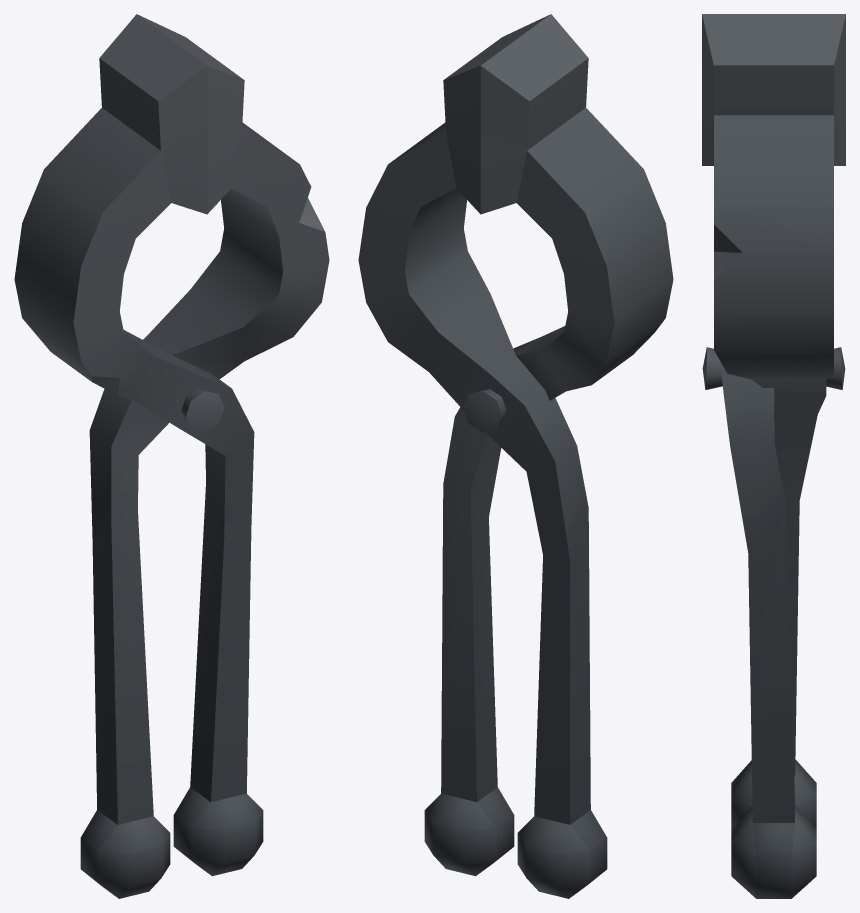
The model's file is tongs.gltf.
The picture shows the model from 3 angles, left to right: view 1: azimuth 30°, elevation 25°; view 2: azimuth 150°, elevation 25°; view 3: azimuth 270°, elevation 25°; orthographic projection.
Visible parts, largest first — view 1: tongs, tongs_part; view 2: tongs, tongs_part; view 3: tongs_part, tongs.
Part boxes in pixels (x1,y1,x2,y2): tongs: [14, 14, 263, 876]; tongs_part: [80, 15, 329, 898]; tongs: [424, 14, 673, 876]; tongs_part: [358, 15, 607, 898]; tongs_part: [702, 14, 845, 828]; tongs: [702, 347, 845, 898].
Size of the model in its own units: 0.4114 by 1.29 by 0.1964.
Materials: 1 (1 with a texture image).
